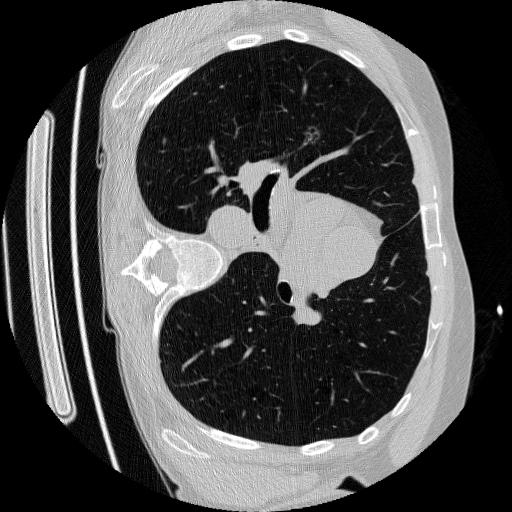nodule: (302, 127, 325, 150)
